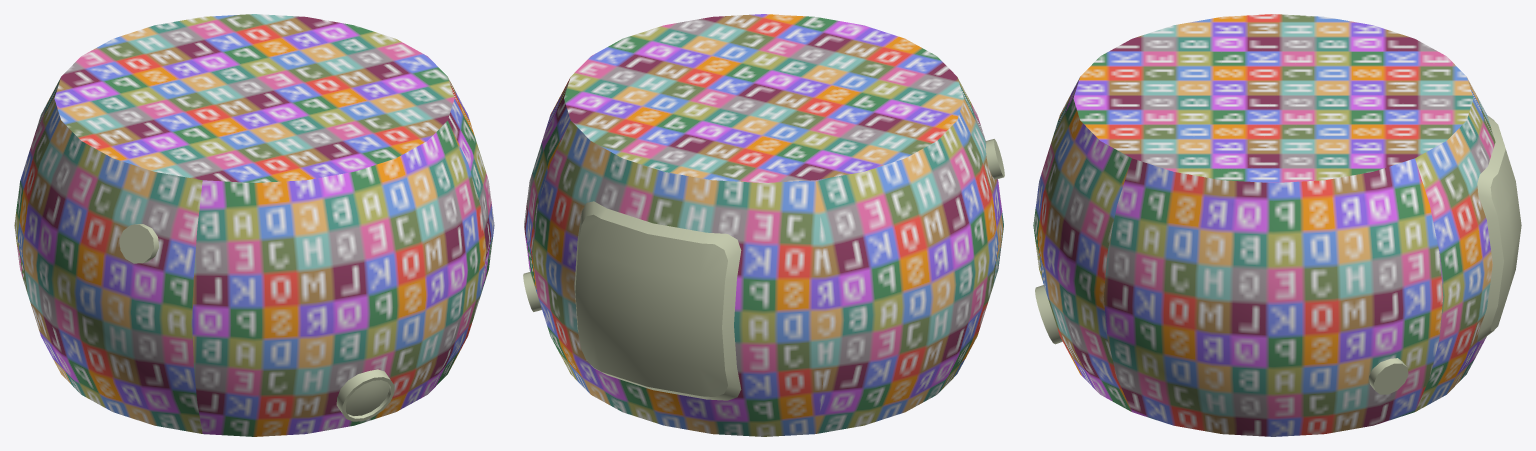
File: hadar_crew_s1_2_interior.obj
3 renders of one model, left to right at view 1: azimuth 30°, elevation 25°; view 2: azimuth 150°, elevation 25°; view 3: azimuth 270°, elevation 25°, orthographic.
Visible parts, largest first — view 1: interior, mask; view 2: interior, mask; view 3: interior, mask.
Boxes of the visible parts, x1,y1,x2,y2 form: interior: [14, 14, 494, 436]; mask: [119, 224, 394, 421]; interior: [524, 14, 1003, 436]; mask: [523, 139, 1004, 400]; interior: [1033, 14, 1495, 436]; mask: [1035, 115, 1521, 394].
Size of the model in its own units: 1.5 by 0.875 by 1.52.
2 materials, 1 textured.
